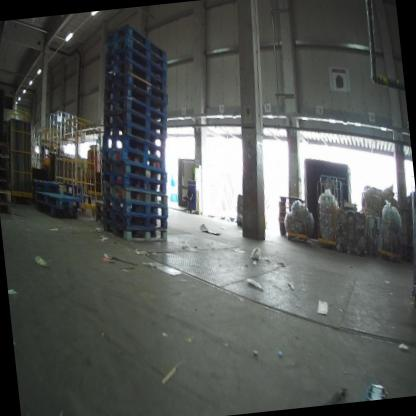pallet: (100, 41, 165, 88), (103, 22, 167, 69), (99, 56, 166, 99), (99, 80, 169, 120), (100, 185, 169, 224), (101, 140, 168, 180), (103, 34, 165, 76), (105, 69, 168, 110), (102, 104, 166, 144), (101, 213, 171, 249), (100, 128, 166, 166), (101, 165, 168, 202), (102, 195, 168, 232), (102, 116, 166, 154), (101, 154, 167, 189), (103, 92, 165, 129), (100, 177, 168, 209), (31, 183, 79, 211), (35, 198, 82, 223), (30, 172, 63, 196), (0, 136, 13, 154), (0, 176, 13, 193), (0, 188, 13, 205), (0, 148, 11, 168), (0, 199, 14, 214), (0, 163, 10, 182)
